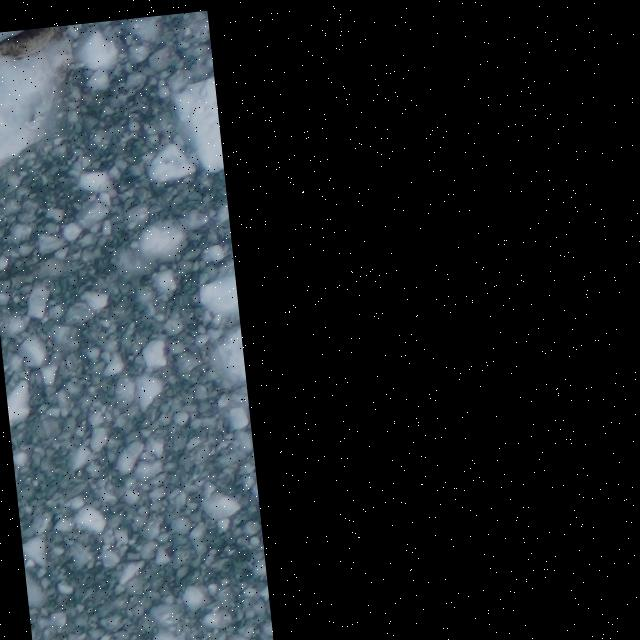seal: (0, 26, 71, 61)
